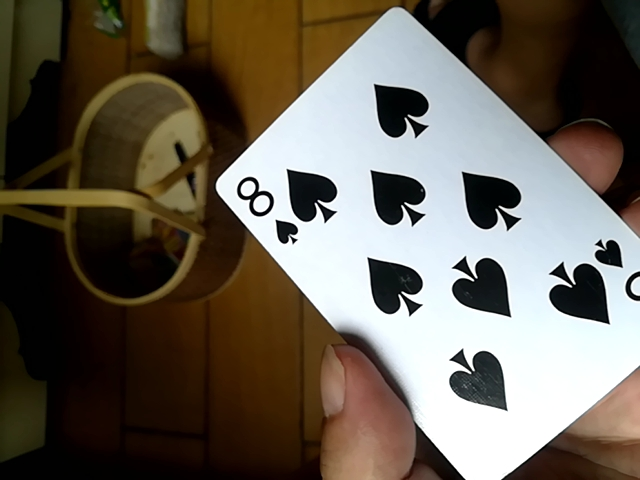ht 8: (201, 9, 634, 478)
